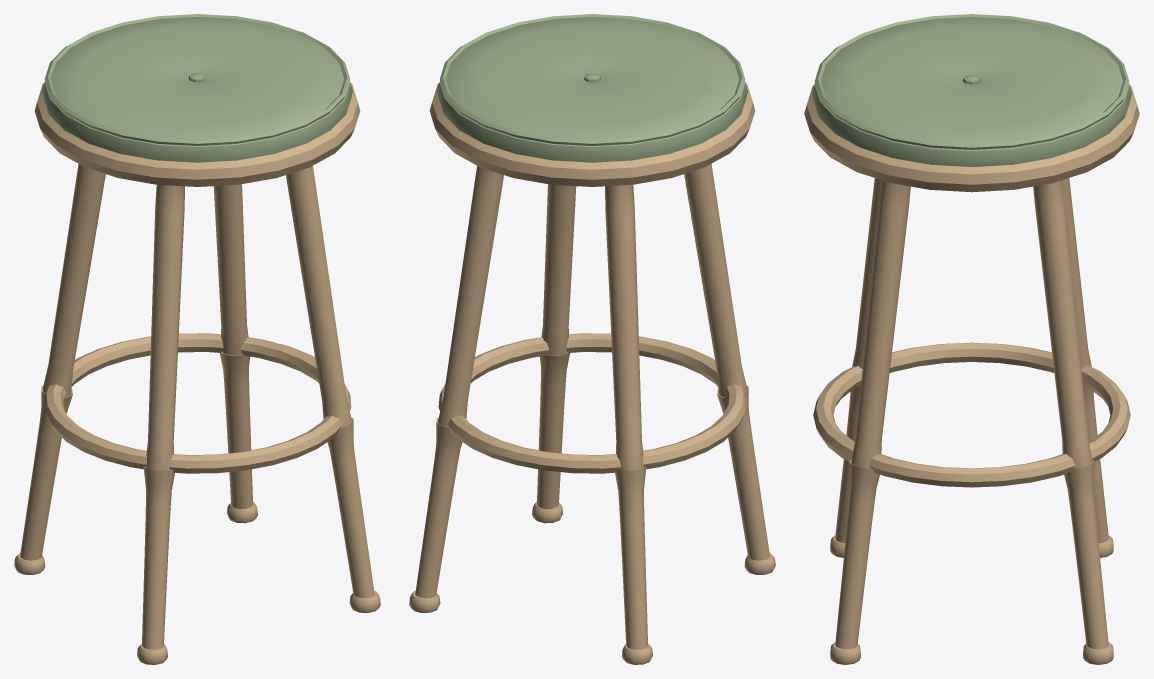
Rendered from stoolCounter.glb.
3 renders of one model, left to right at view 1: azimuth 30°, elevation 25°; view 2: azimuth 150°, elevation 25°; view 3: azimuth 270°, elevation 25°, orthographic. The views are drawn at different scales.
Visible parts, largest first — view 1: base, seat; view 2: base, seat; view 3: seat, base.
Boxes of the visible parts, bbox=[...] form: base: bbox=[14, 164, 380, 664]; seat: bbox=[34, 14, 360, 186]; base: bbox=[409, 164, 775, 664]; seat: bbox=[429, 14, 755, 186]; seat: bbox=[804, 14, 1139, 192]; base: bbox=[813, 178, 1130, 664].
Bounding box in the file's own units: 0.394 × 0.6848 × 0.394.
